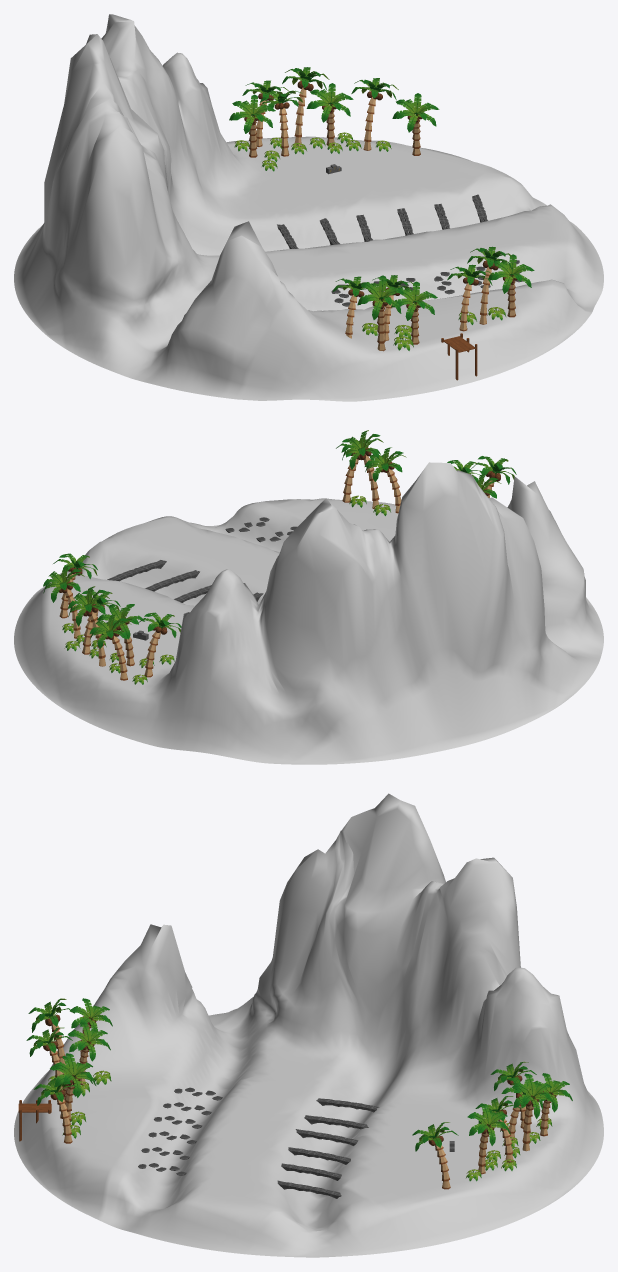
Rendered from ObstacleCourseIsland.fbx.
3 renders of one model, top to bottom at view 1: azimuth 30°, elevation 25°; view 2: azimuth 150°, elevation 25°; view 3: azimuth 270°, elevation 25°, orthographic.
Visible parts, largest first — view 1: Island, PalmTree8, PalmTree16, PalmTree19, PalmTree11, PalmTree20, PalmTree9, PalmTree14, PalmTree13, PalmTree17, PalmTree15, PalmTree12 (+3 smaller); view 2: Island, PalmTree13, PalmTree14, PalmTree18, PalmTree17, PalmTree12, PalmTree19, PalmTree15, PalmTree16, PalmTree8, PalmTree20; view 3: Island, PalmTree14, PalmTree17, PalmTree13, PalmTree10, PalmTree16, PalmTree11, PalmTree8, PalmTree18, PalmTree7, PalmTree9, PalmTree20.
Boxes of the visible parts, x1,y1,x2,y2 form: Island: (14, 14, 603, 401); PalmTree8: (357, 275, 403, 351); PalmTree16: (392, 93, 439, 155); PalmTree19: (229, 94, 275, 157); PalmTree11: (488, 254, 534, 317); PalmTree20: (306, 83, 353, 145); PalmTree9: (391, 281, 437, 344); PalmTree14: (282, 67, 329, 145); PalmTree13: (467, 246, 512, 324); PalmTree17: (351, 78, 398, 150); PalmTree15: (260, 90, 302, 156); PalmTree12: (447, 264, 493, 331); Island: (14, 462, 603, 764); PalmTree13: (341, 430, 383, 509); PalmTree14: (68, 586, 109, 666); PalmTree18: (89, 614, 131, 680); PalmTree17: (43, 565, 84, 638); PalmTree12: (364, 447, 406, 513); PalmTree19: (138, 612, 181, 677); PalmTree15: (97, 604, 144, 666); PalmTree16: (53, 553, 97, 618); PalmTree8: (471, 456, 516, 497); PalmTree20: (75, 590, 120, 654); Island: (14, 793, 603, 1257); PalmTree14: (512, 1073, 555, 1151); PalmTree17: (467, 1103, 510, 1174); PalmTree13: (53, 1053, 96, 1127); PalmTree10: (68, 1022, 110, 1084); PalmTree16: (412, 1122, 458, 1189); PalmTree11: (34, 1078, 76, 1143); PalmTree8: (28, 998, 74, 1073); PalmTree18: (534, 1073, 572, 1136); PalmTree7: (70, 998, 112, 1052); PalmTree9: (26, 1027, 72, 1090); PalmTree20: (475, 1096, 521, 1162).
Bounding box in the file's own units: 89.88 × 42.76 × 89.99.
